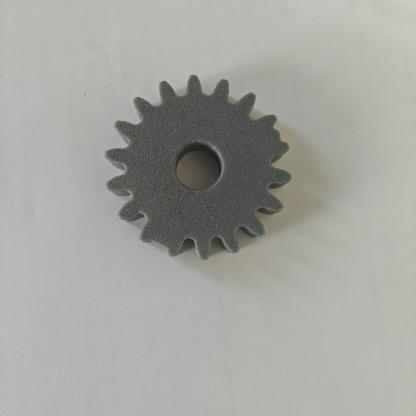defect: (238, 104, 318, 178), (122, 206, 206, 268)
gear: (85, 63, 341, 299)
